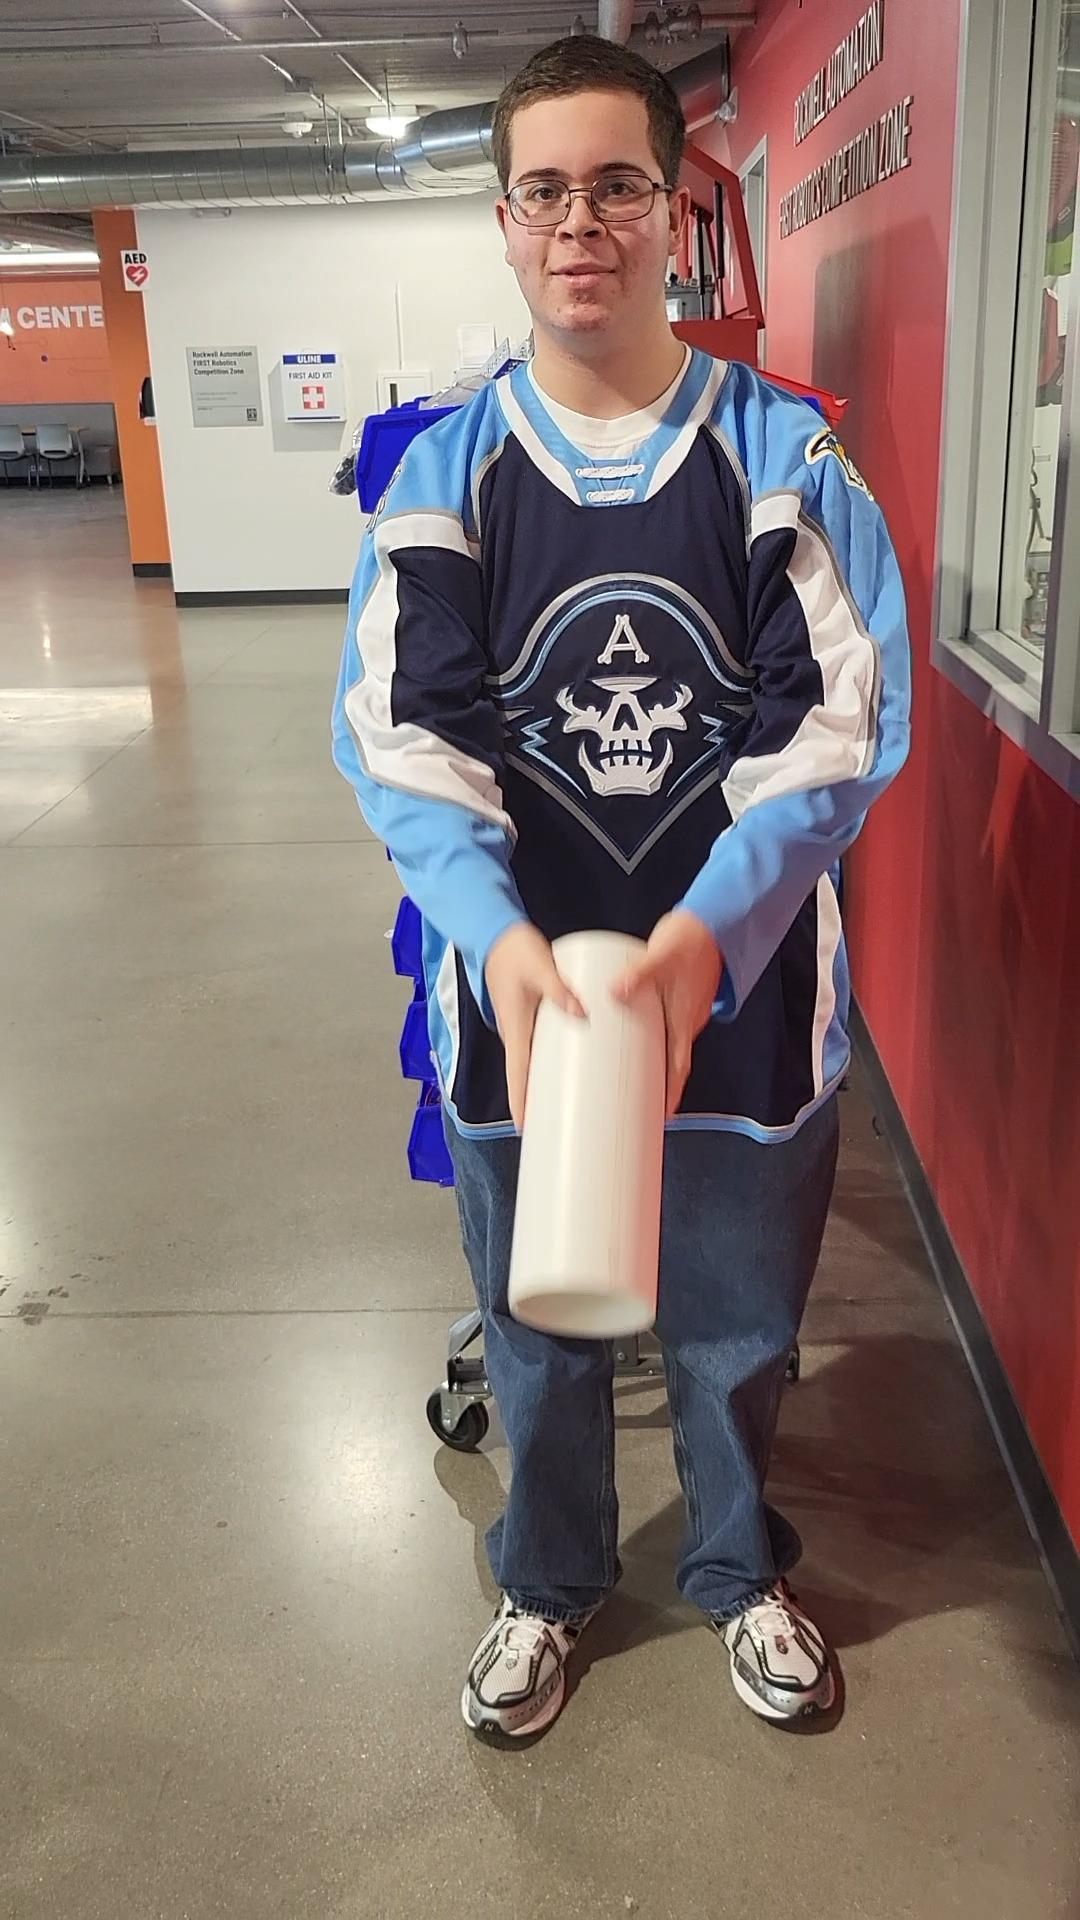coral: (506, 924, 690, 1346)
